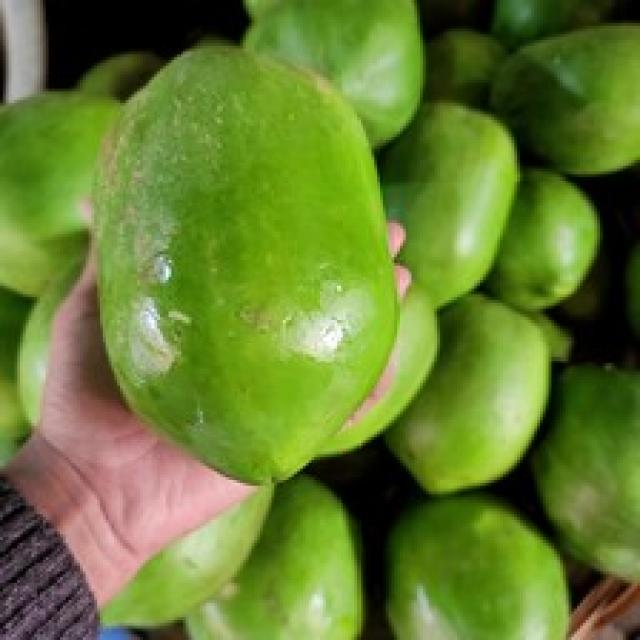Pepaya unrippen: (91, 33, 399, 506)
